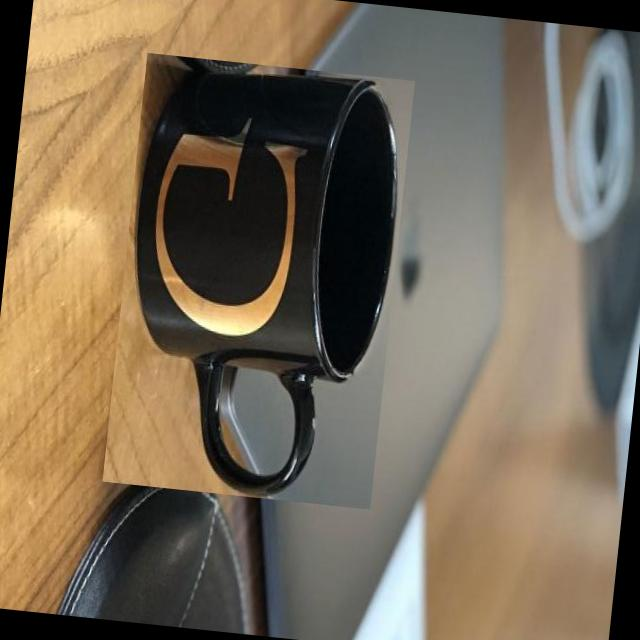Coffee Mug: (101, 52, 414, 509)
